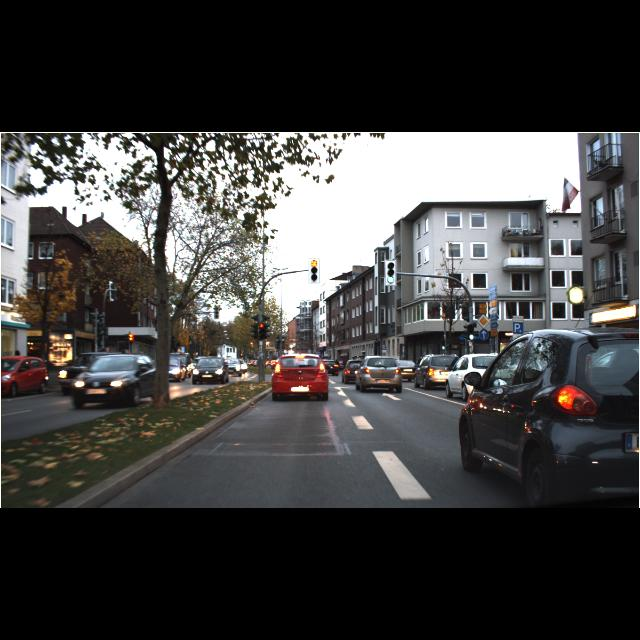mandatory: (479, 330, 488, 340)
other: (476, 314, 490, 328)
